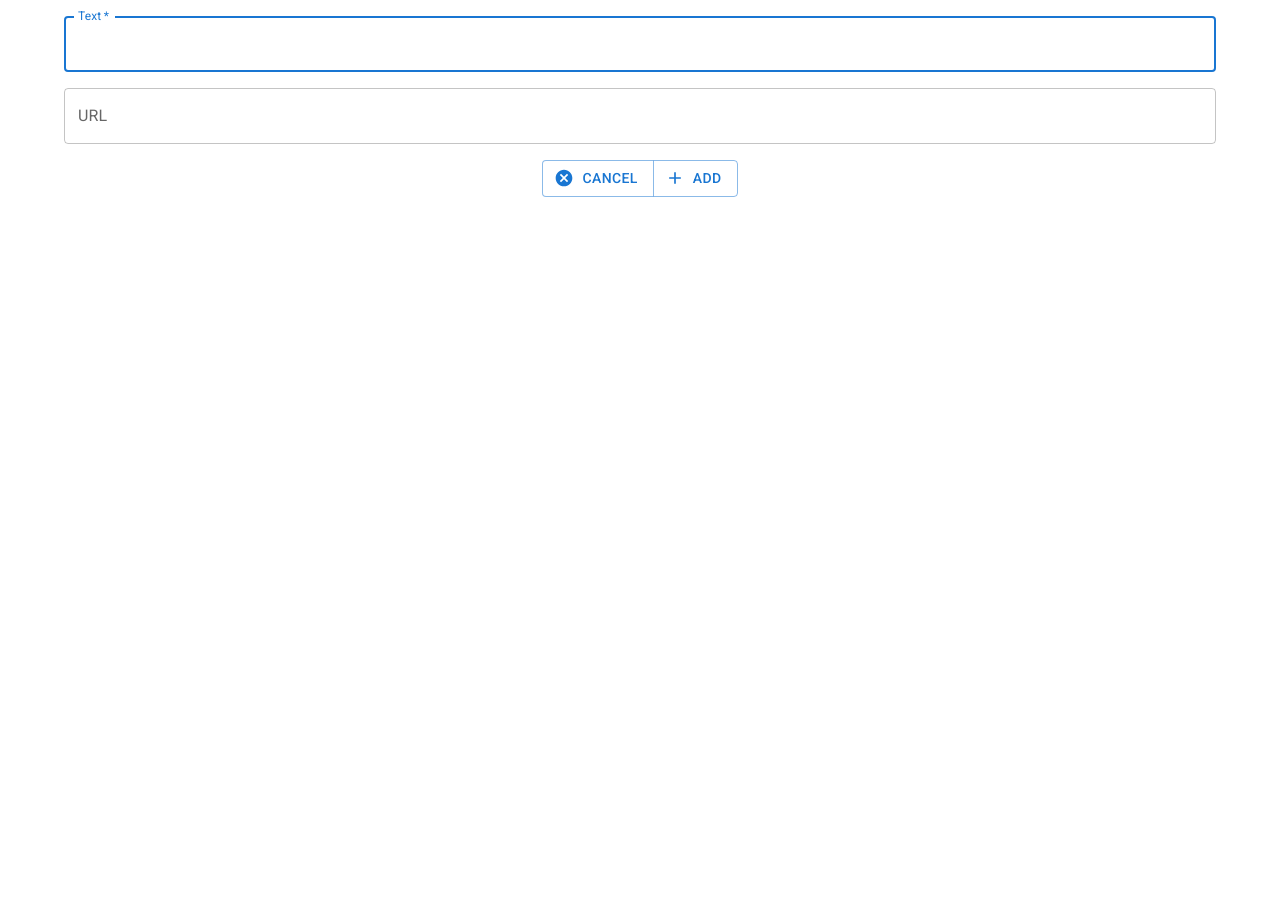
Test: <EntryForm/> › should hide the error snackbar when it is closed
This screenshot has width=1280, height=900.
In the field labelled "Text *": [640, 44] box top-left (64, 16), bottom-right (1216, 72), type "Milk"
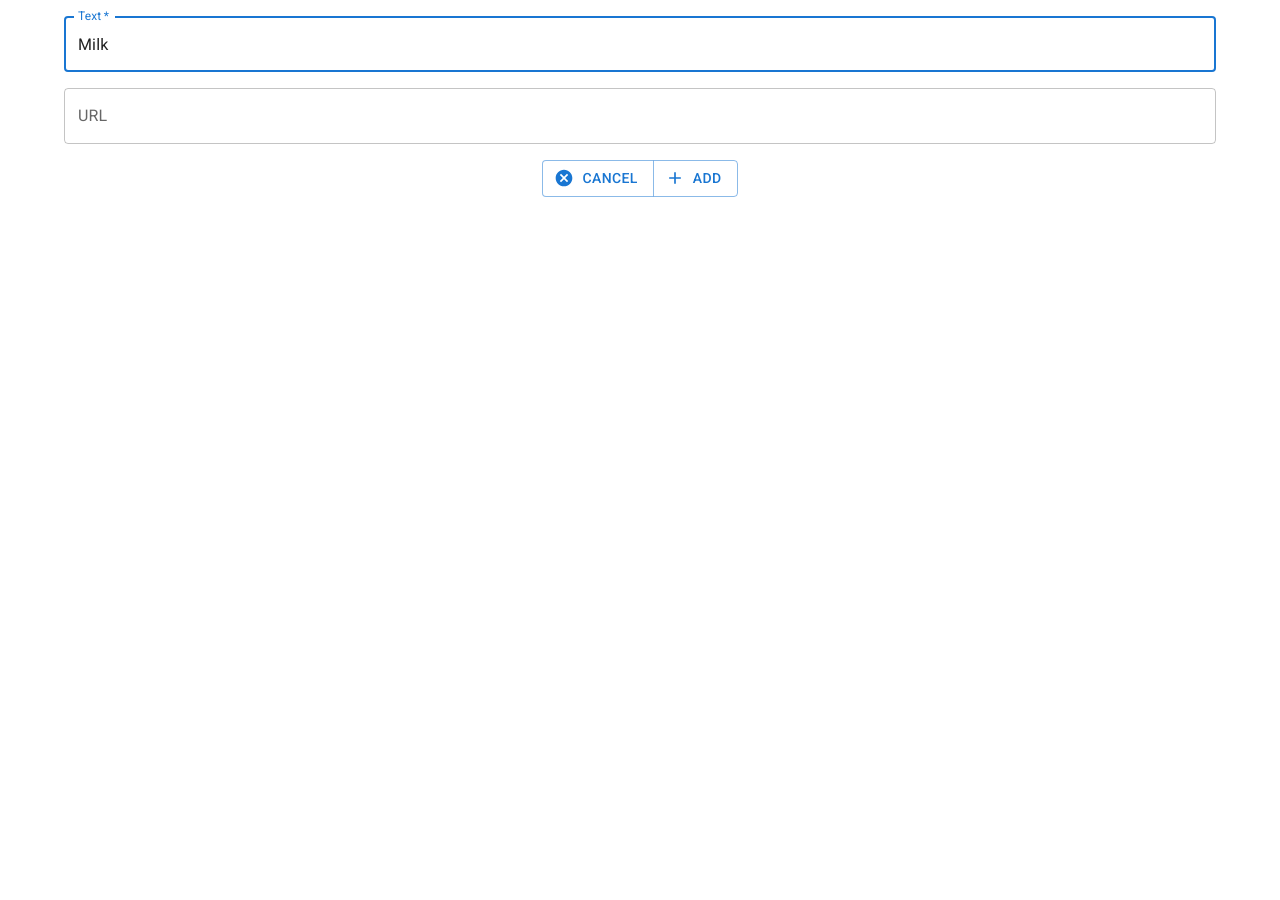
Click the button "Add": [695, 178] box top-left (653, 160), bottom-right (738, 196)
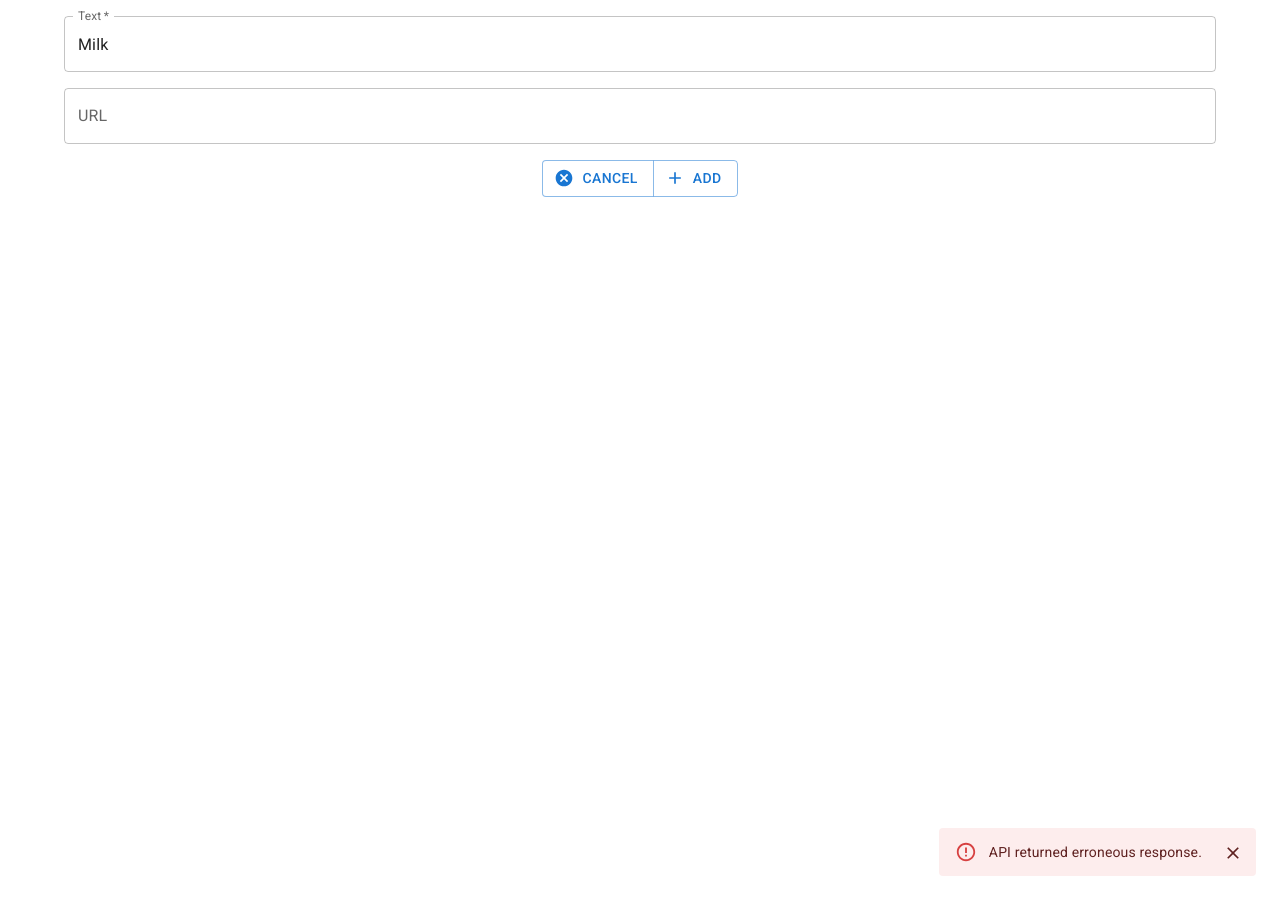
Now the text "API returned erroneous response." is shown, box top-left (989, 844), bottom-right (1202, 860)
Click the button with test id "close-button": [1233, 853] box top-left (1218, 838), bottom-right (1248, 868)
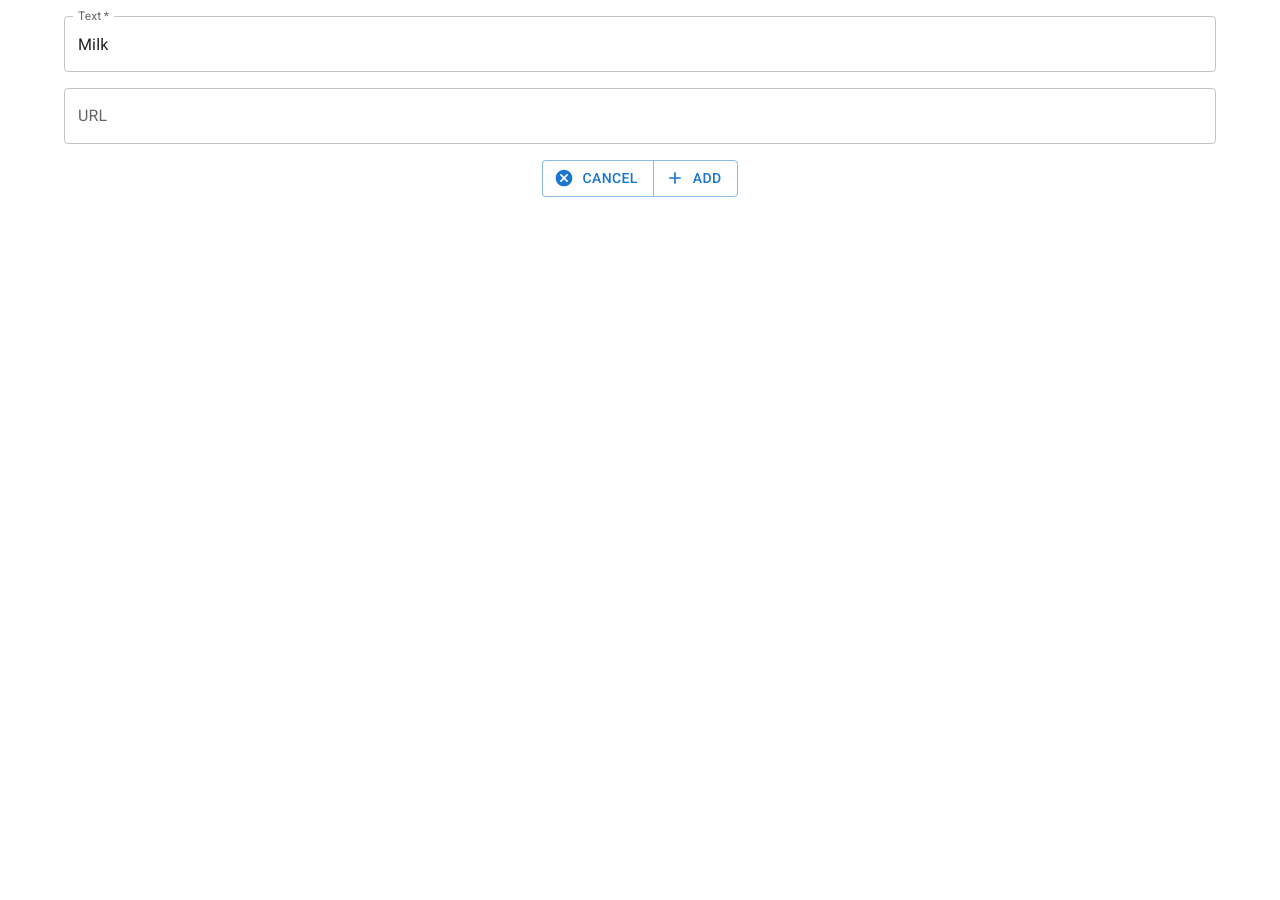
Now the text "API returned erroneous response" is gone
